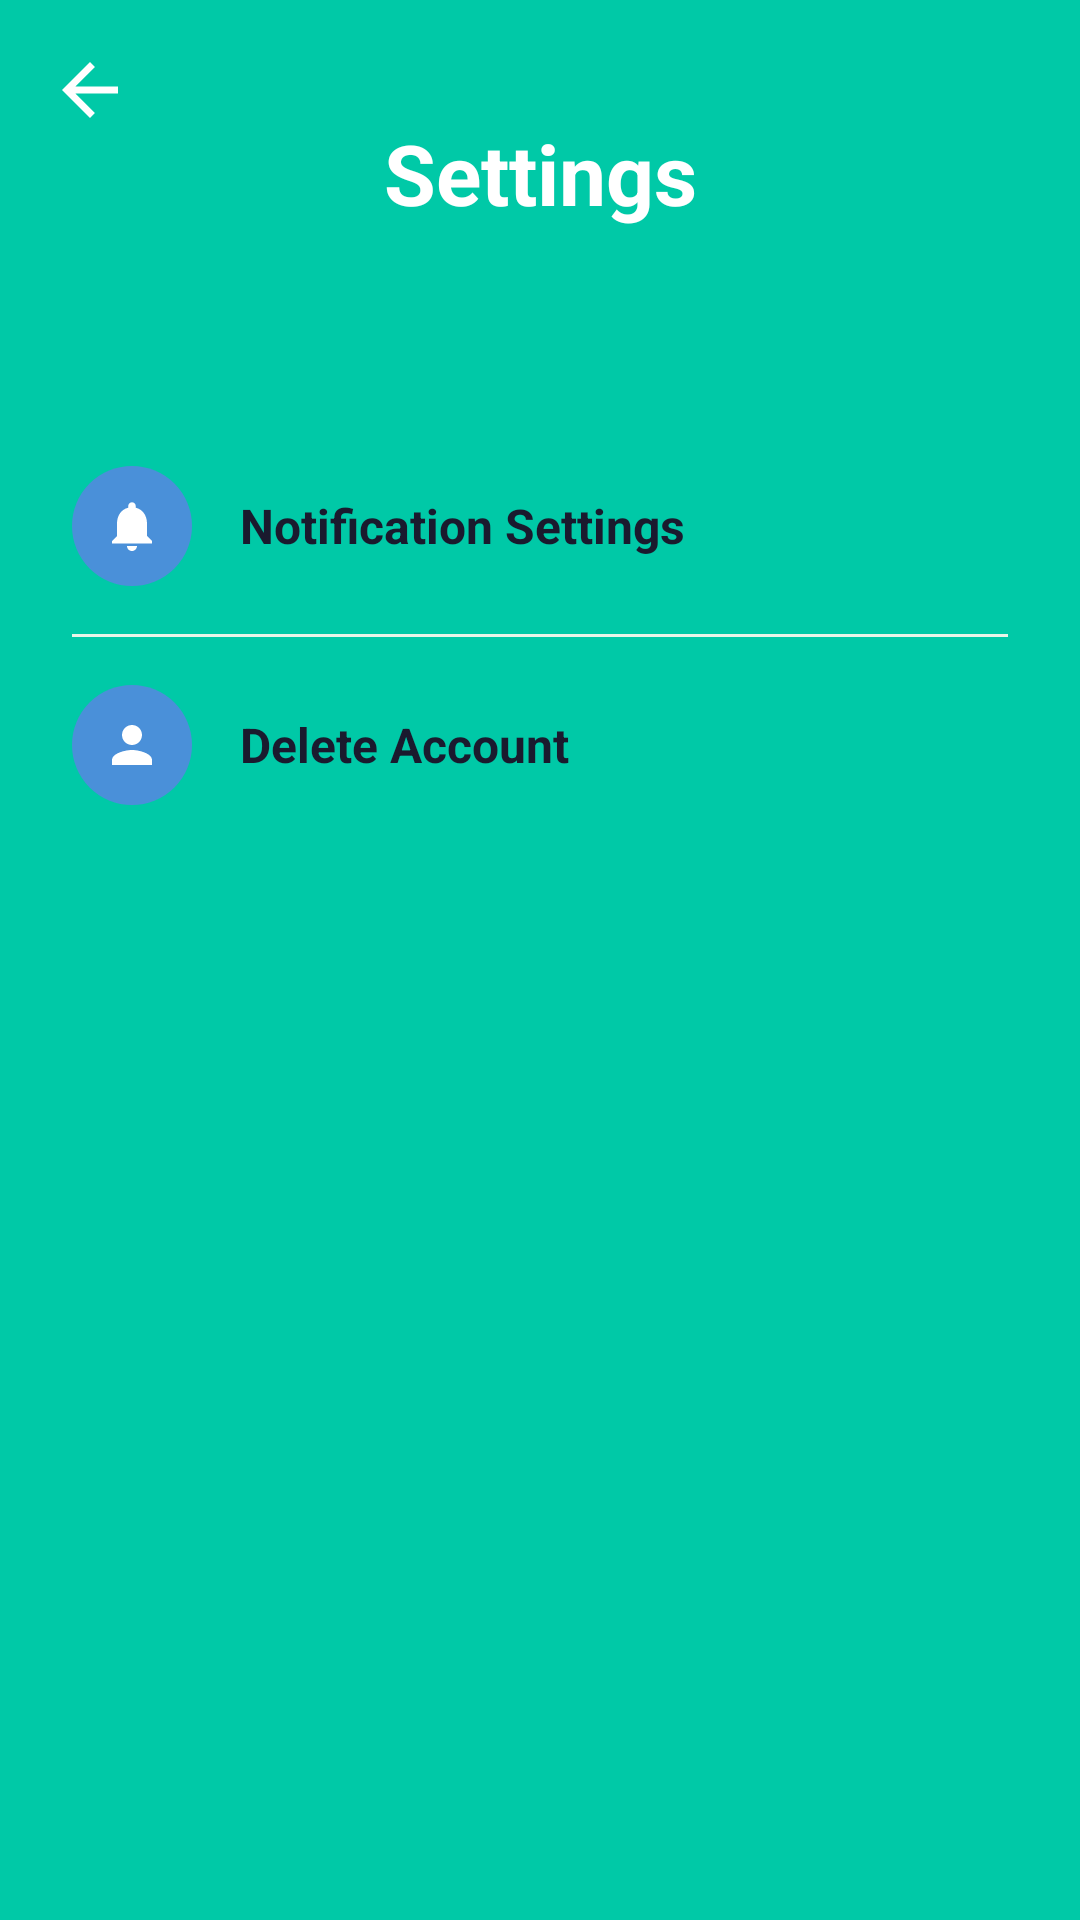

Screen size 1080*1920. Icon name, then its box in pixels as (left=x1, top=y1, right=x2, bottom=y2):
Back: (left=62, top=62, right=118, bottom=118)
